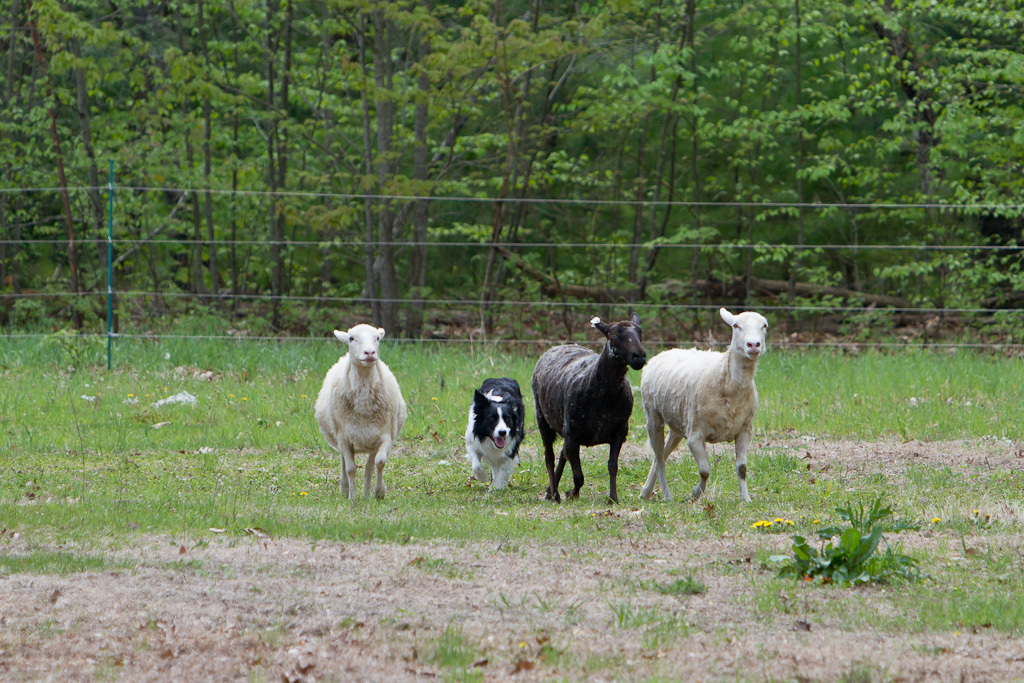sheep: (637, 307, 768, 504), (531, 312, 646, 505), (313, 323, 409, 504)
